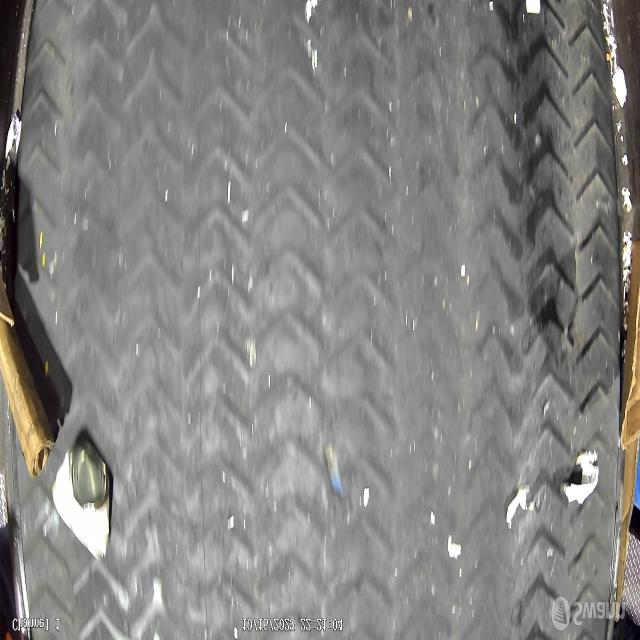can: (53, 439, 111, 561)
